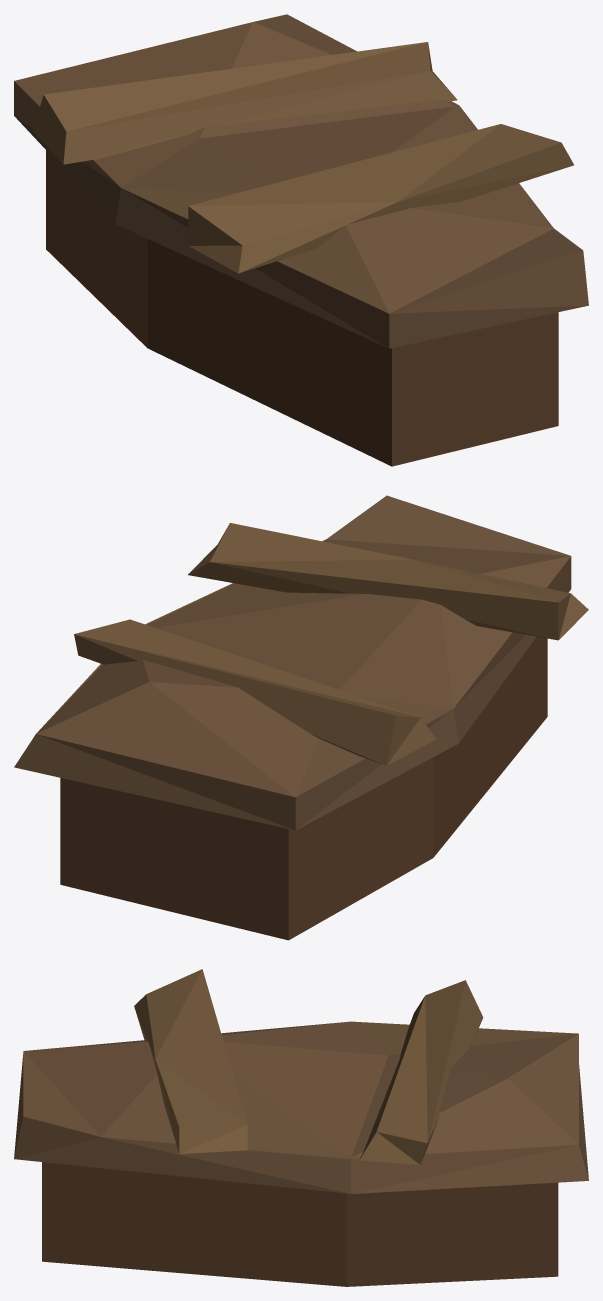
Rendered from coffin_02.fbx.
The picture shows the model from 3 angles, top to bottom: view 1: azimuth 30°, elevation 25°; view 2: azimuth 150°, elevation 25°; view 3: azimuth 270°, elevation 25°; orthographic projection. The views are drawn at different scales.
Parts seen in each view (by area): view 1: coffin_02; view 2: coffin_02; view 3: coffin_02.
Part boxes in pixels (bbox=[...]): coffin_02: bbox=[14, 14, 588, 466]; coffin_02: bbox=[14, 495, 588, 940]; coffin_02: bbox=[14, 969, 588, 1286].
Size of the model in its own units: 3.03 by 1.67 by 4.82.
